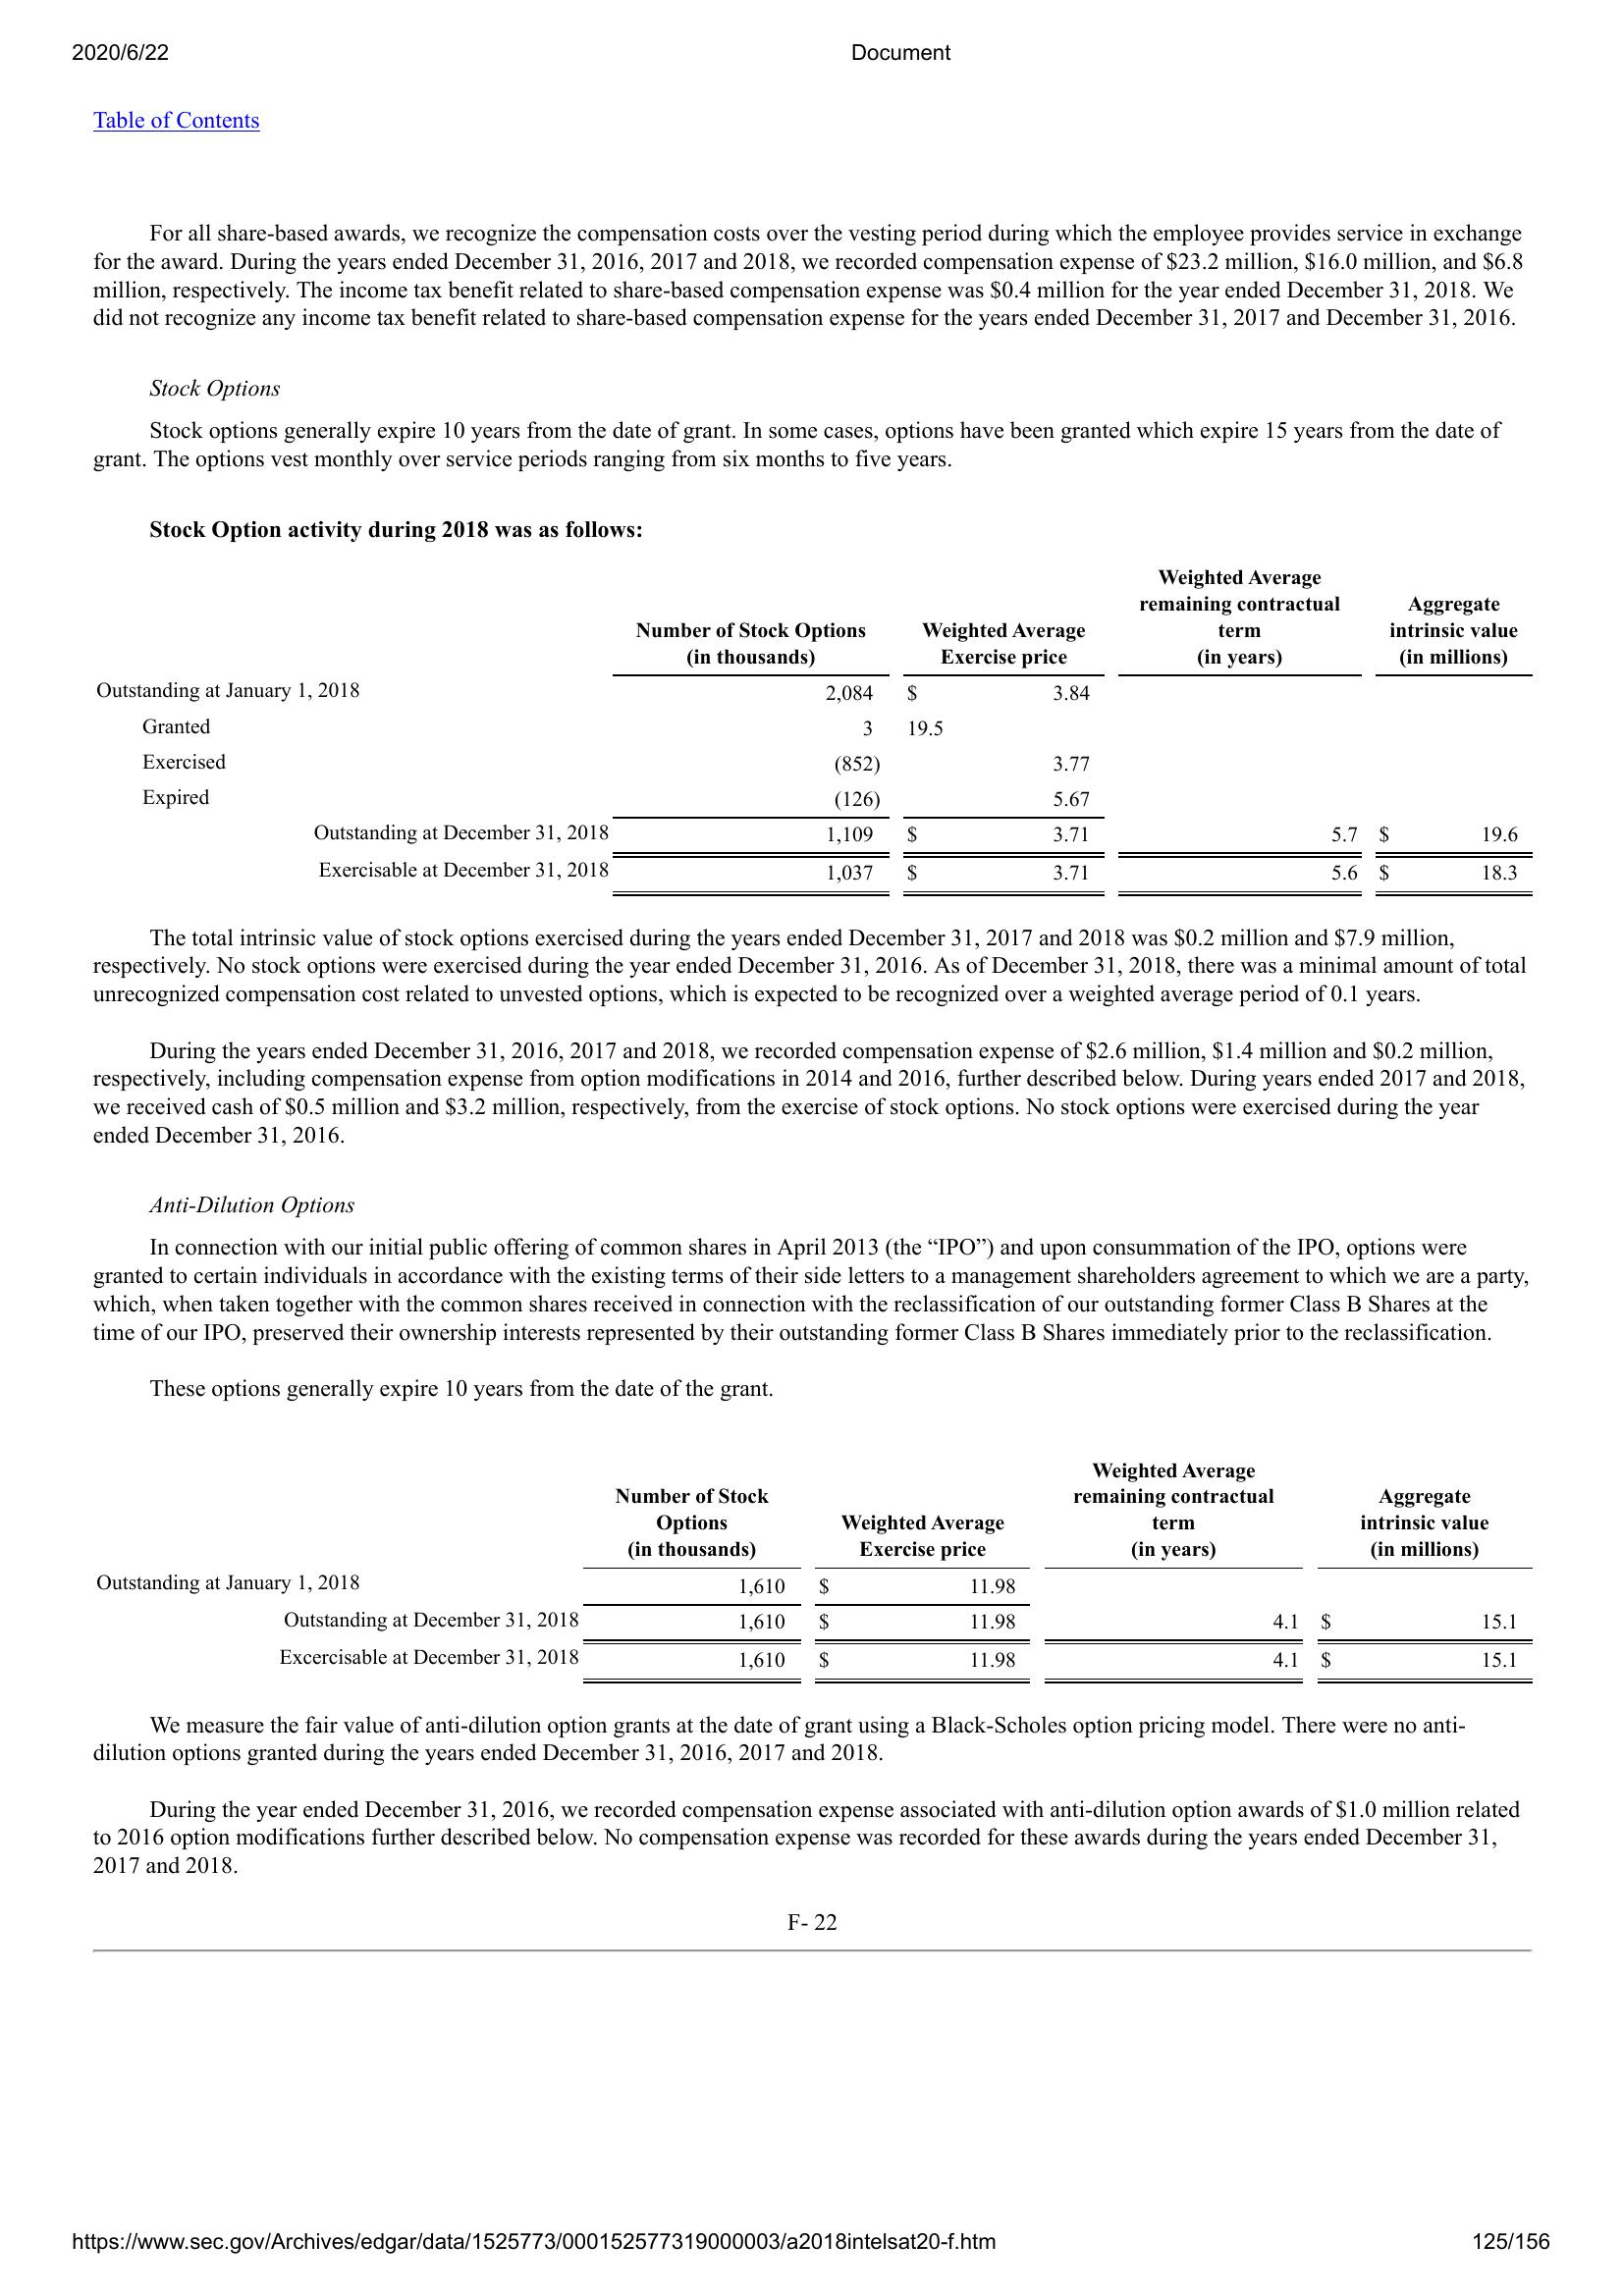table: (74, 563, 1542, 902), (91, 1460, 1547, 1696)
